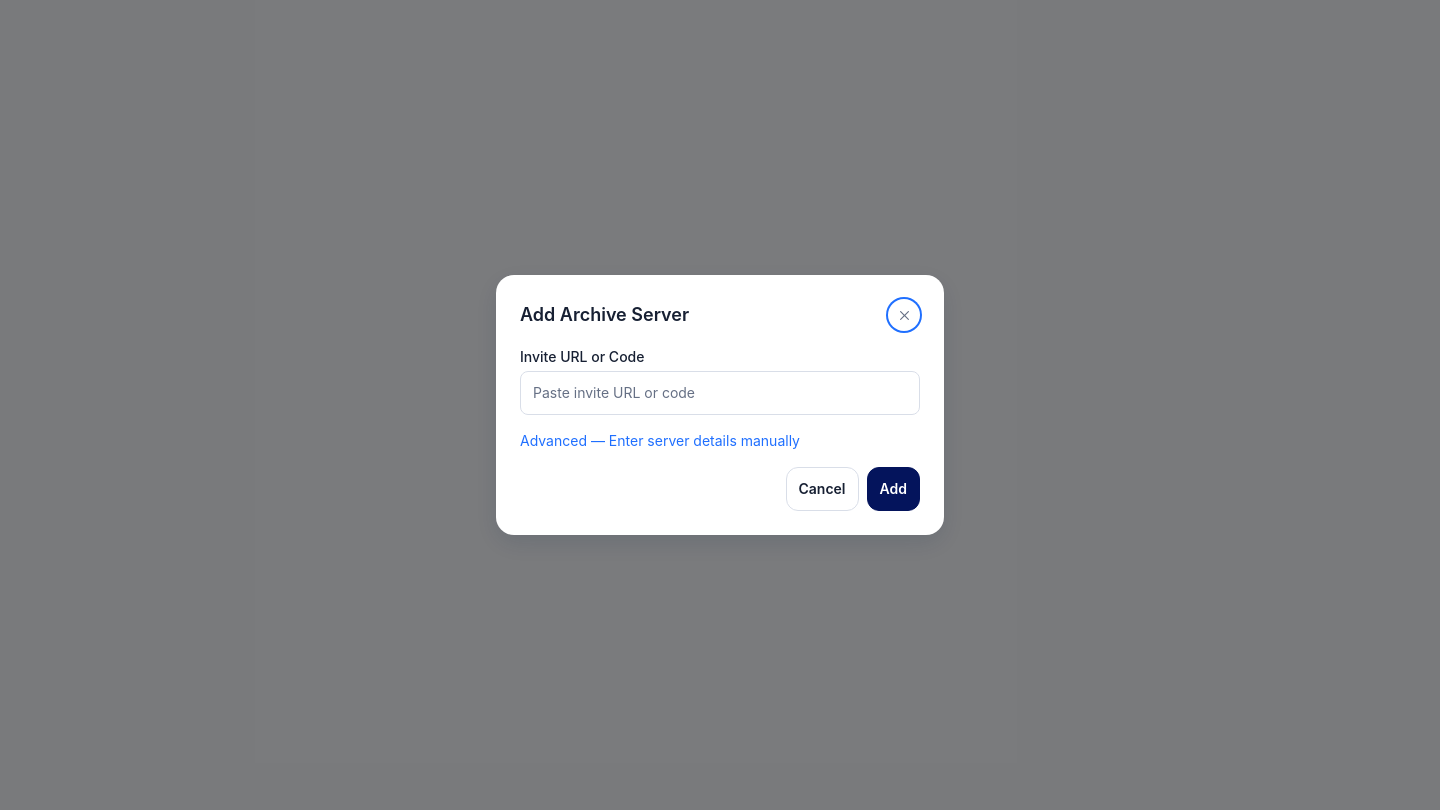
it: AddArchiveServerDialog › shows validation error on URL when empty in advanced mode
Note: Switch to advanced mode
Click the button with test id "advanced-toggle" at (720, 441), box [520,431,920,451]
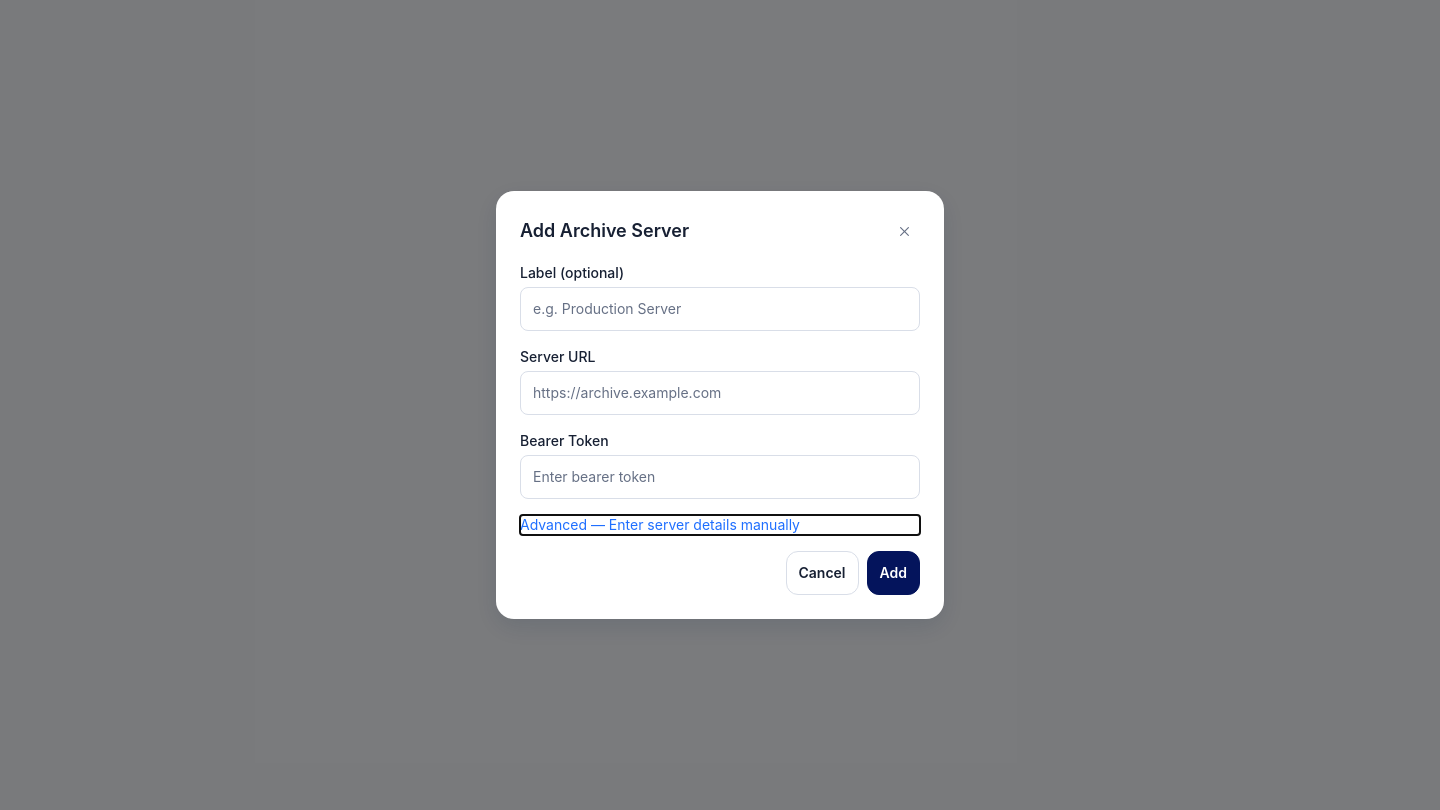
Note: Click Add without filling URL
Click the button "Add" at (893, 573), box [866,551,920,595]
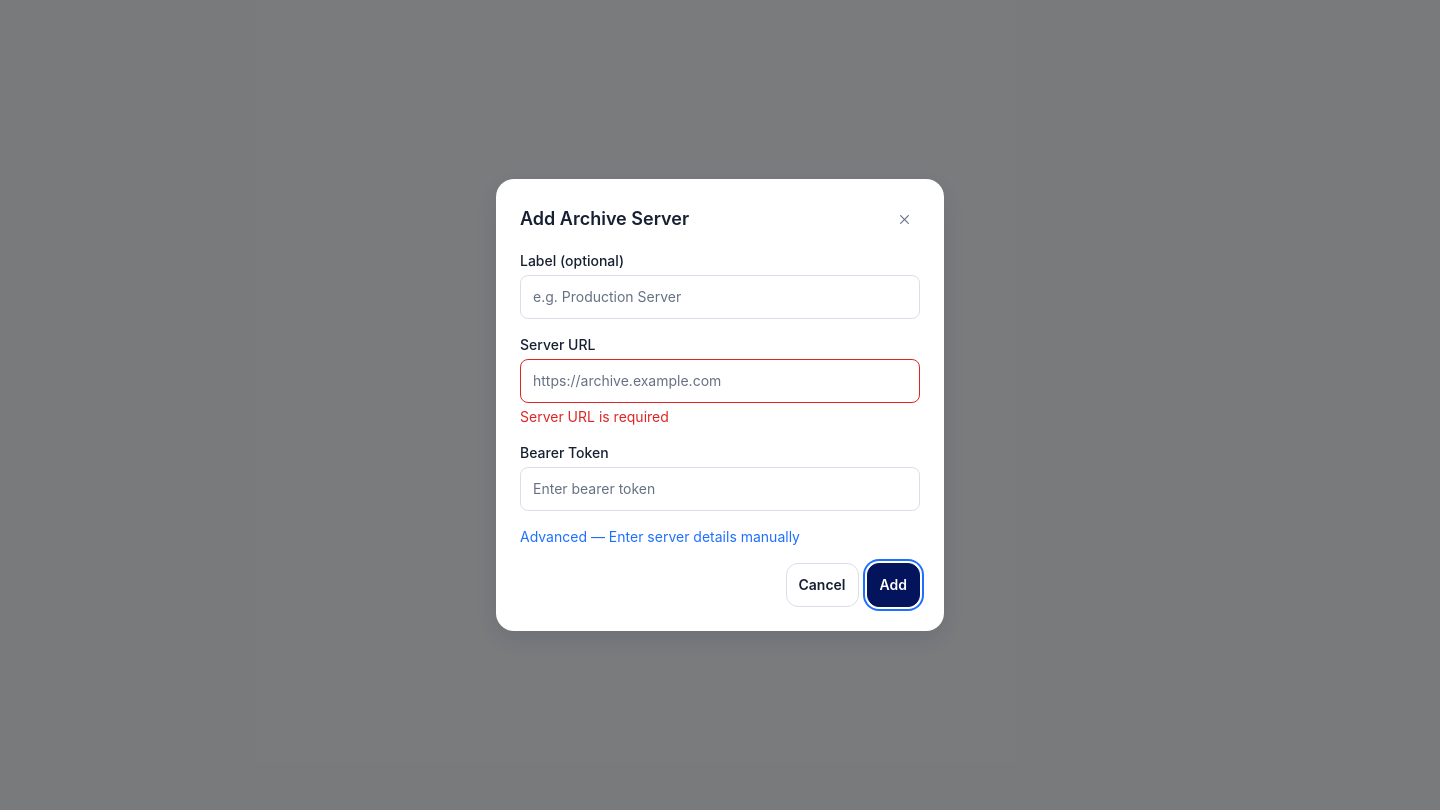
Check: the text "Server URL is required" is shown, box [520,408,669,425]
